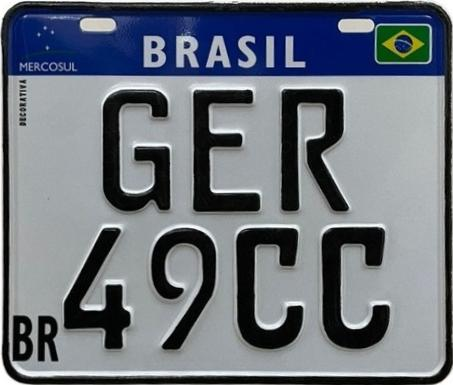Placa_mercosul_carro: (7, 11, 445, 376)
